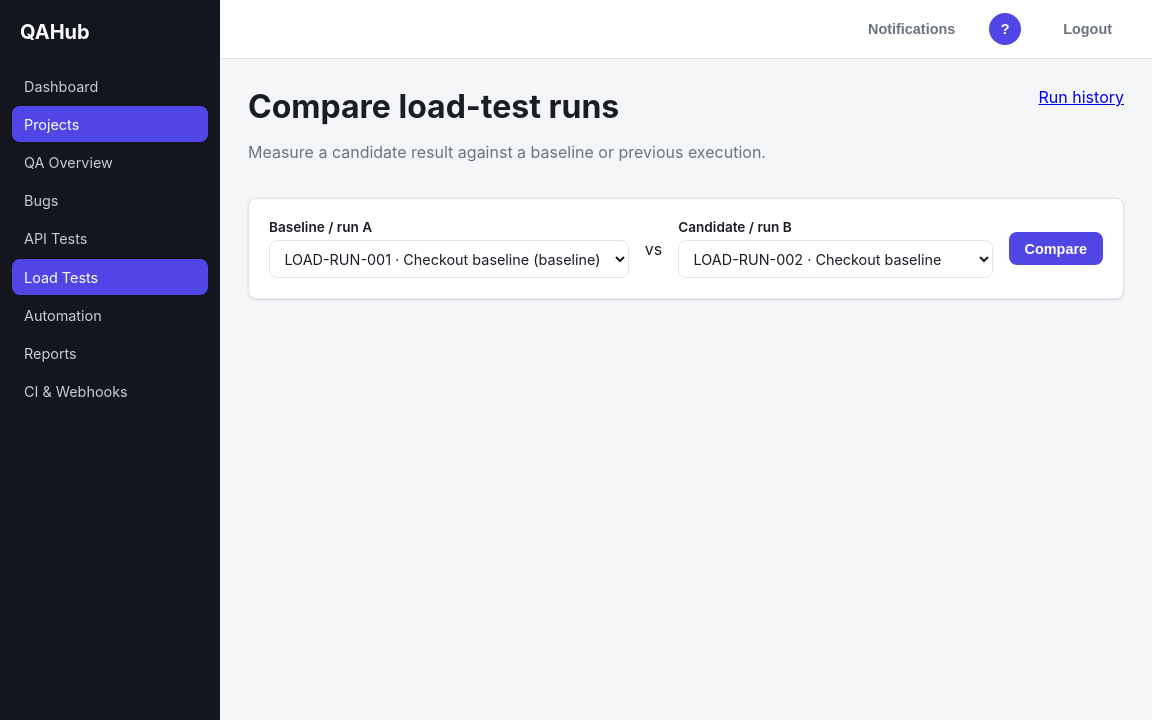
Test: load testing pages › selects two completed runs and displays a descriptive comparison
Click the button "Compare".
click(1056, 249)  # box top-left (1009, 232), bottom-right (1103, 266)
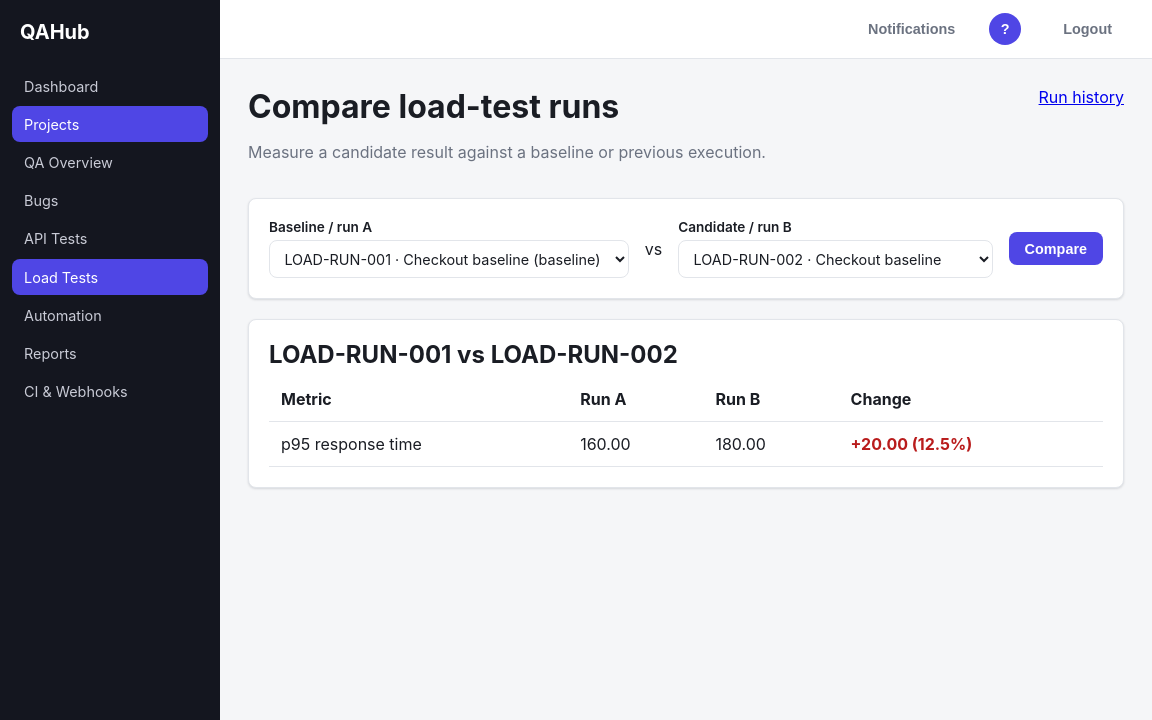
expect the text "p95 response time" is shown: met, box top-left (269, 422), bottom-right (568, 467)
expect the text "+20.00 (12.5%)" is shown: met, box top-left (839, 422), bottom-right (1103, 467)
